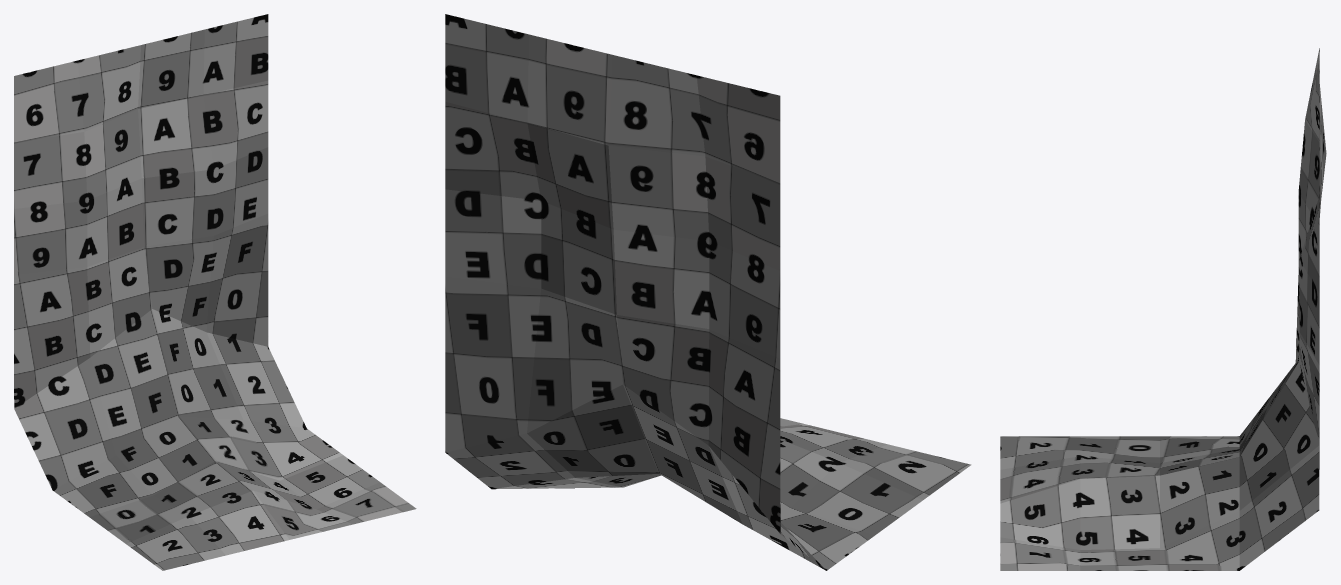
Rendered from WallEdge4.fbx.
3 views of the same model, side by side, from view 1: azimuth 30°, elevation 25°; view 2: azimuth 150°, elevation 25°; view 3: azimuth 270°, elevation 25° (orthographic). The views are drawn at different scales.
Visible parts, largest first — view 1: polySurface72; view 2: polySurface72; view 3: polySurface72.
Part boxes in pixels (x1,y1,x2,y2): polySurface72: (14, 14, 416, 570); polySurface72: (445, 14, 971, 570); polySurface72: (1000, 48, 1326, 570).
Size of the model in its own units: 1.01 by 1.5 by 1.02.
Materials: 1 (1 with a texture image).
